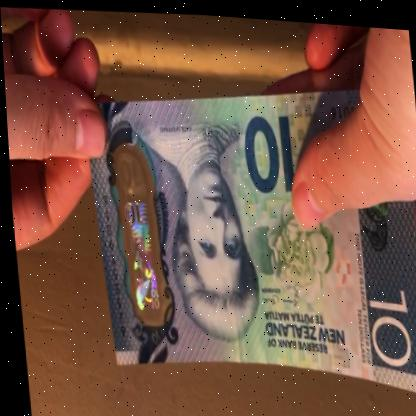10B: (116, 154, 162, 319)
